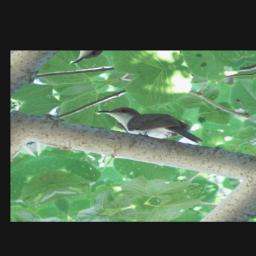Cuckoo: (95, 92, 205, 163)
